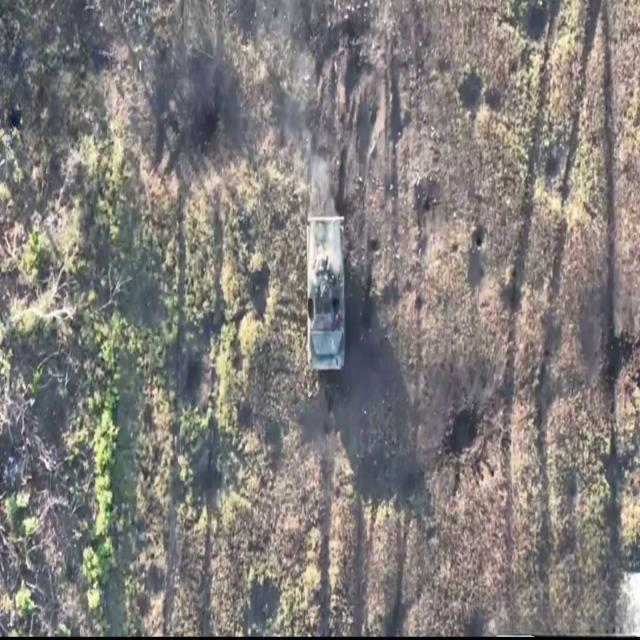AIFV: (302, 215, 351, 375)
